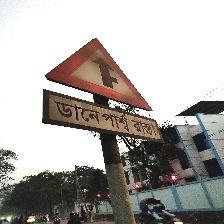Side-road-right: (42, 37, 160, 143)
